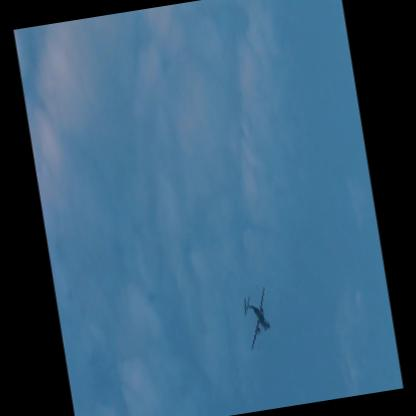plane: (236, 281, 276, 352)
